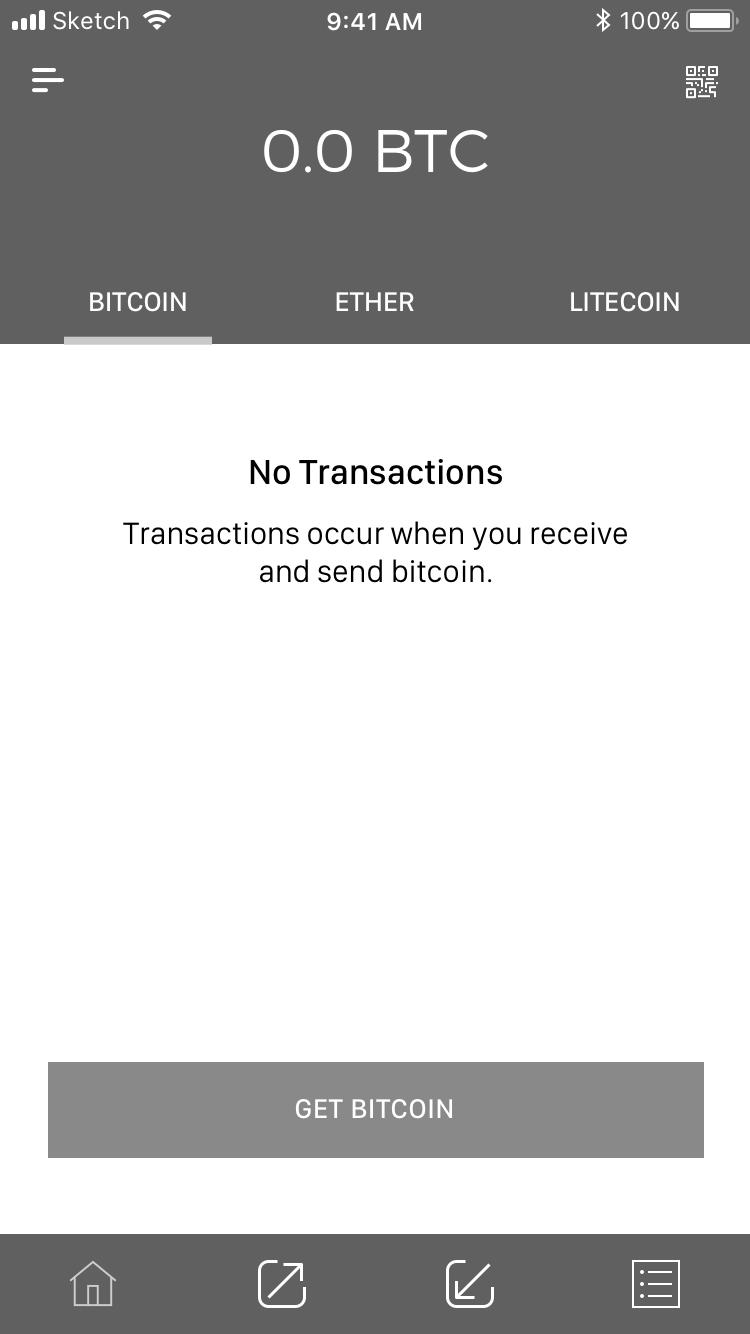Icon: (257, 1259, 307, 1309), (445, 1259, 495, 1309), (631, 1260, 681, 1309), (70, 1260, 119, 1307), (32, 68, 65, 94)
Image: (685, 66, 719, 100)
Text: (123, 522, 628, 583), (264, 130, 489, 174), (251, 460, 503, 485), (571, 292, 679, 312), (90, 292, 188, 313), (337, 292, 414, 312)
TextButton: (48, 1062, 704, 1159)
UpperTaskBar: (1, 1, 750, 34)
